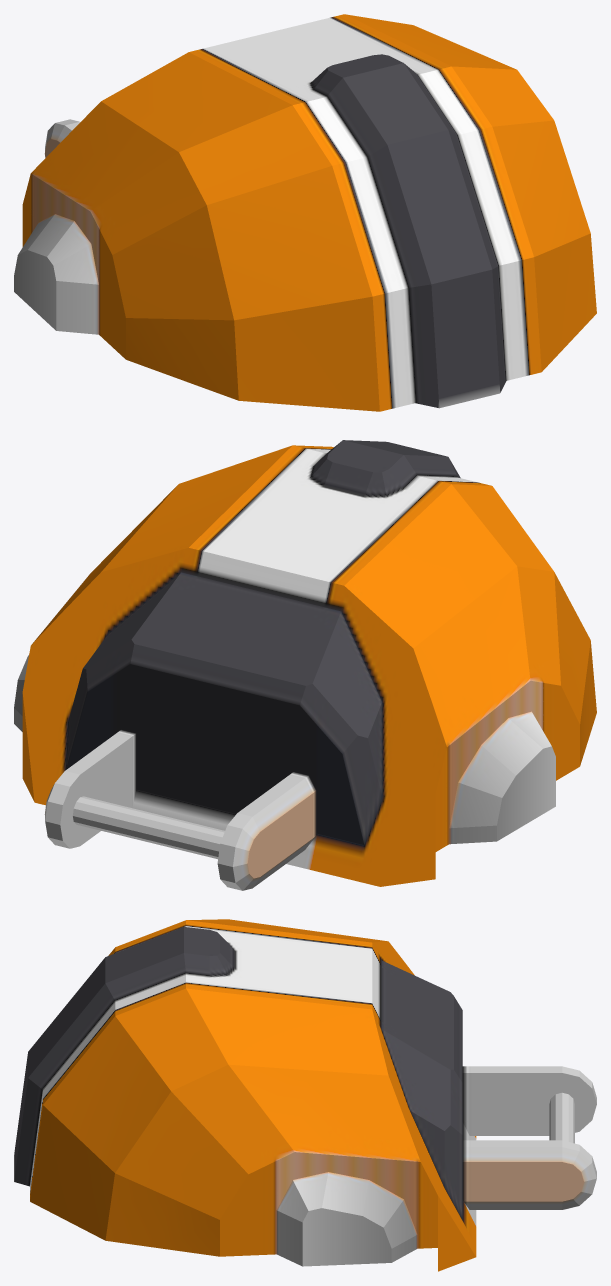
The model's file is JVRC-1-shape-11.dae.
3 views of the same model, one above another, from view 1: azimuth 30°, elevation 25°; view 2: azimuth 150°, elevation 25°; view 3: azimuth 270°, elevation 25° (orthographic). The views are drawn at different scales.
Parts seen in each view (by area): view 1: root; view 2: root; view 3: root.
Part boxes in pixels (x1,y1,x2,y2): root: [14, 14, 596, 411]; root: [14, 440, 596, 890]; root: [14, 919, 596, 1271].
Size of the model in its own units: 19.7 by 10.39 by 22.59.
Materials: 1 (1 with a texture image).
